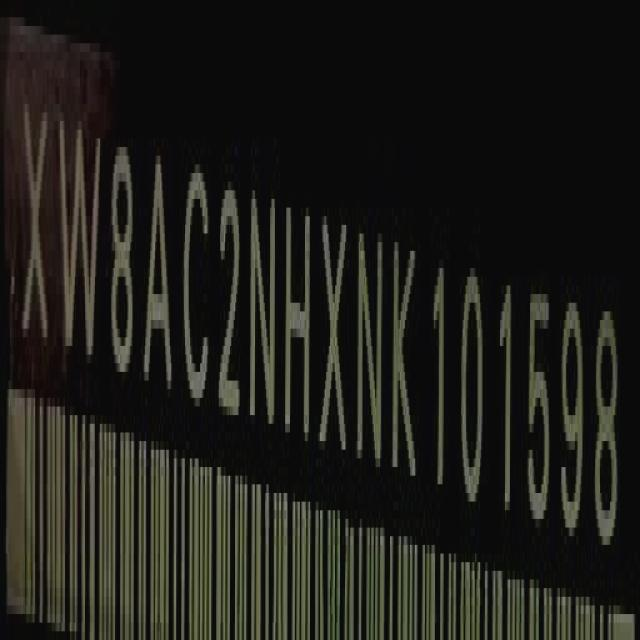0: (460, 255, 484, 508)
1: (498, 272, 514, 545), (431, 242, 447, 503)
2: (217, 173, 242, 430)
5: (528, 277, 553, 530)
8: (596, 303, 622, 553), (111, 137, 136, 386)
9: (560, 293, 585, 545)
A: (143, 146, 173, 404)
C: (184, 156, 214, 416)
H: (287, 190, 312, 450)
K: (391, 221, 419, 509)
N: (356, 208, 385, 481), (252, 178, 279, 438)
W: (57, 102, 101, 376)
X: (21, 76, 51, 358), (320, 202, 346, 471)
